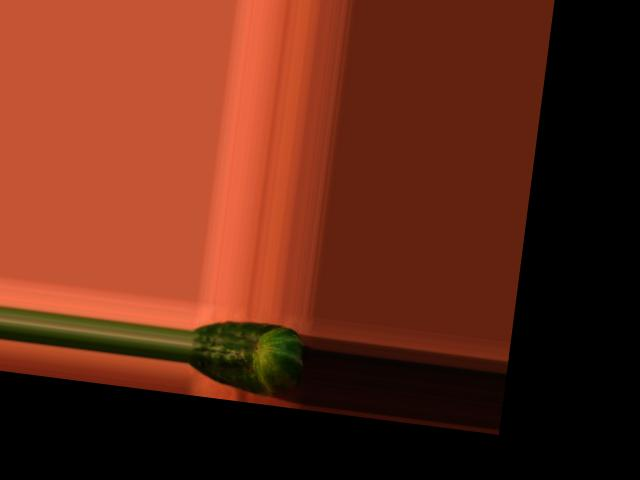cucumber: (186, 313, 307, 399)
